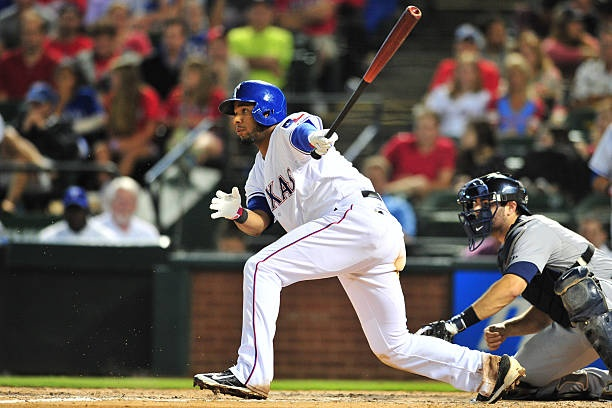bita: (322, 9, 417, 146)
